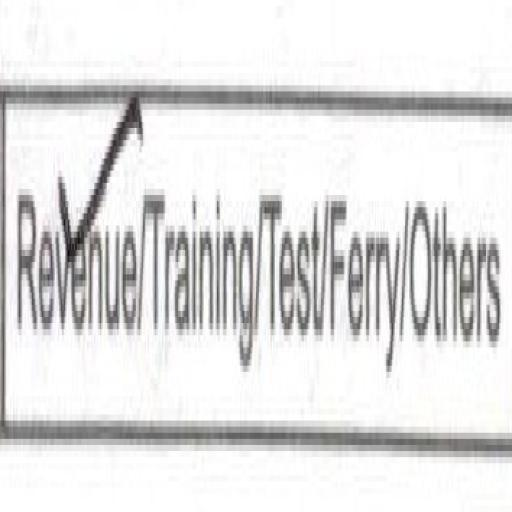check: (8, 29, 140, 468)
